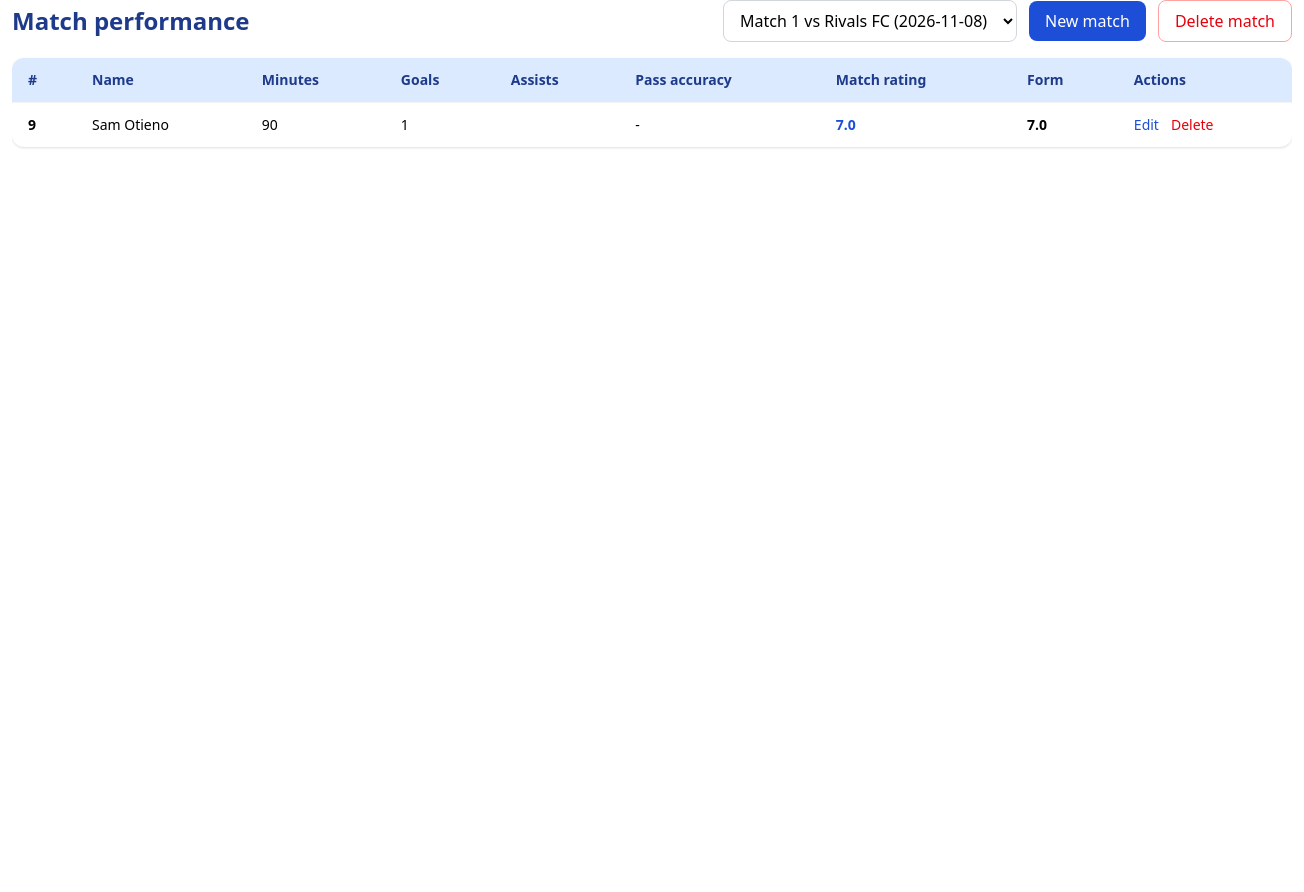
it: edits stats that were already logged
The image size is (1304, 892).
Check: the text "Sam Otieno" is shown, box [76, 102, 246, 147]
Click the button "Edit" at (1146, 125), box [1134, 115, 1159, 135]
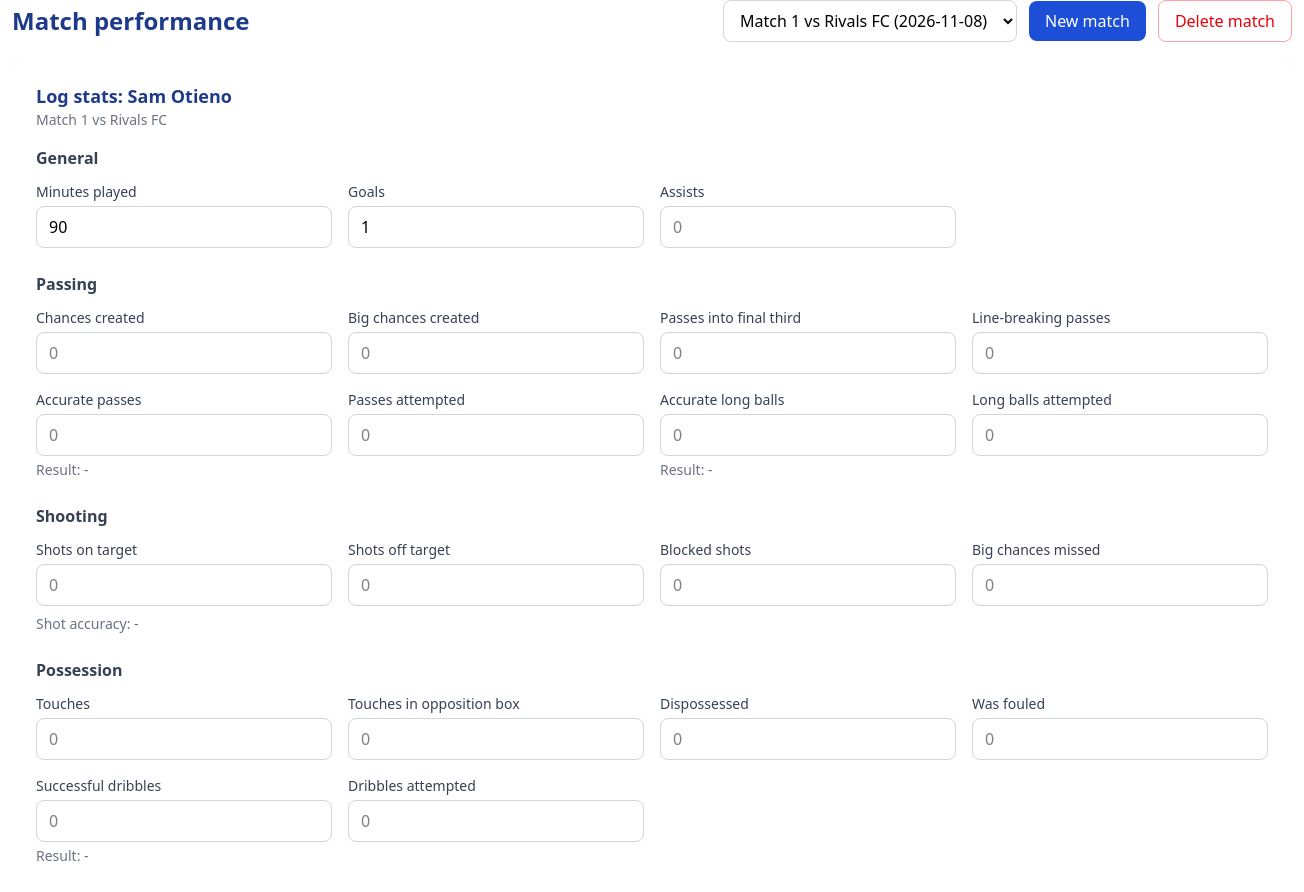
Replace the text in the number field labelled "Goals" with "2" at (496, 227), box [348, 206, 644, 248]
(page scrolled)
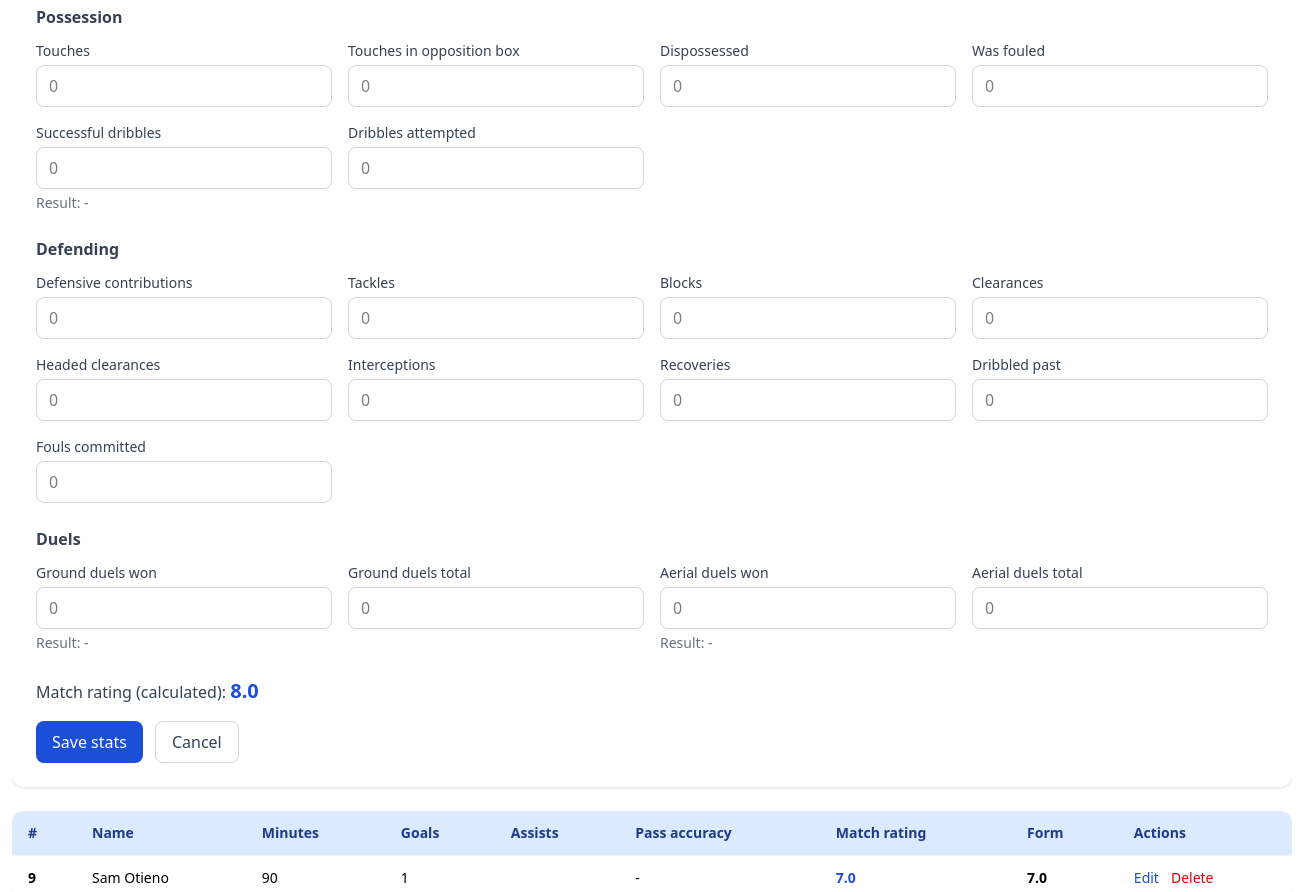
Click the button "Save stats" at (89, 742), box [36, 721, 143, 763]
(page scrolled)
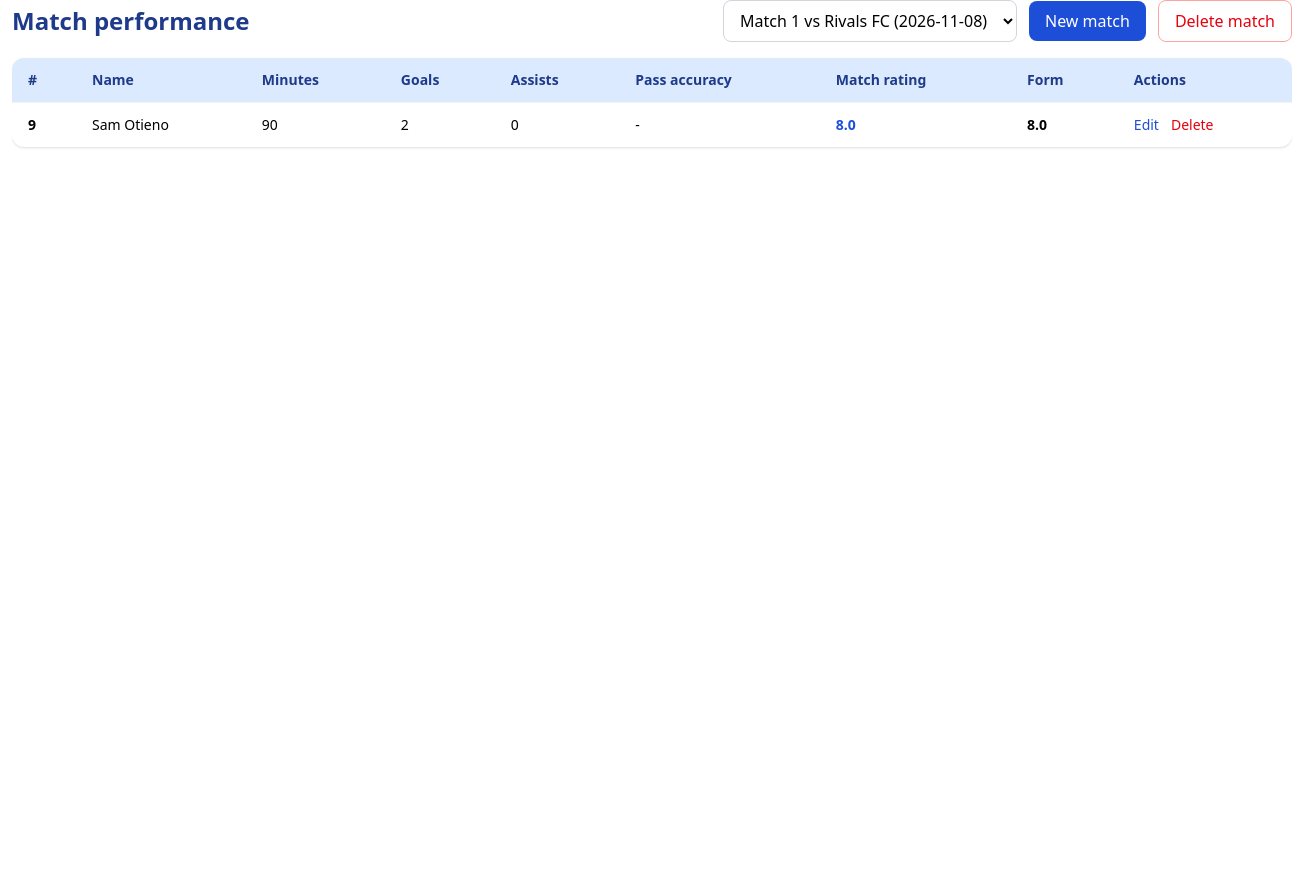
Check: the 1st text "8.0" is shown, box [820, 102, 1011, 147]
